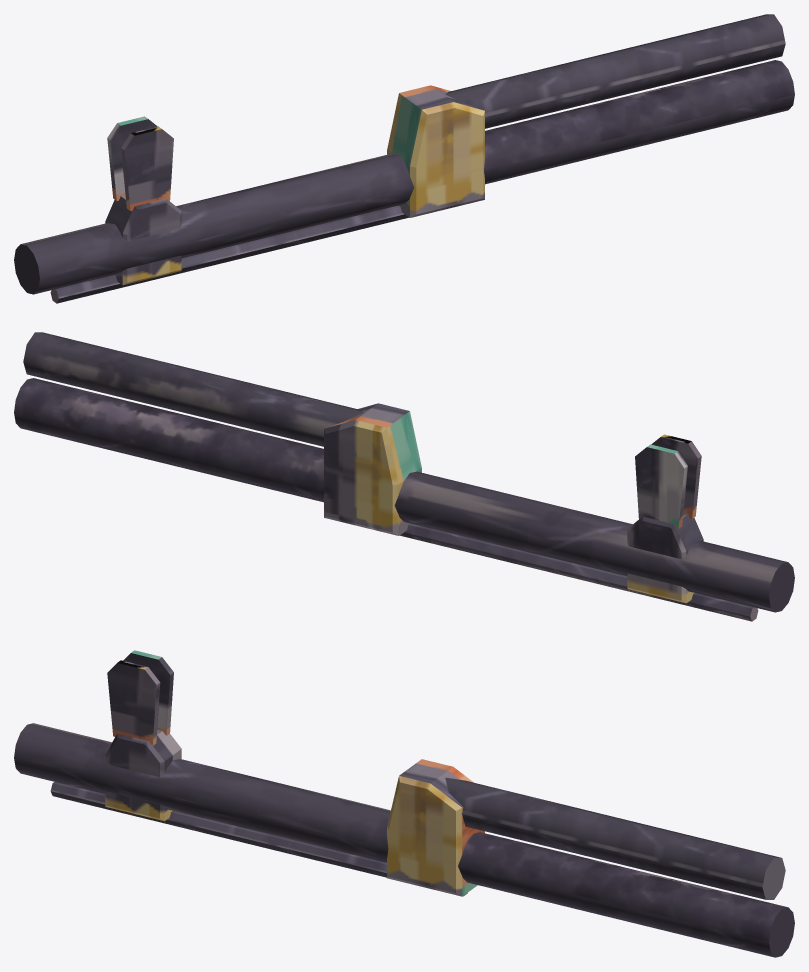
Rendered from rifle_barrel.fbx.
The picture shows the model from 3 angles, top to bottom: view 1: azimuth 30°, elevation 25°; view 2: azimuth 150°, elevation 25°; view 3: azimuth 330°, elevation 25°; orthographic projection.
Parts seen in each view (by area): view 1: rifle_barrel; view 2: rifle_barrel; view 3: rifle_barrel.
Boxes of the visible parts, bbox=[...] form: rifle_barrel: bbox=[14, 14, 794, 303]; rifle_barrel: bbox=[14, 332, 794, 621]; rifle_barrel: bbox=[14, 650, 794, 957].
Bounding box in the file's own units: 1.43 × 0.2817 × 0.09.
